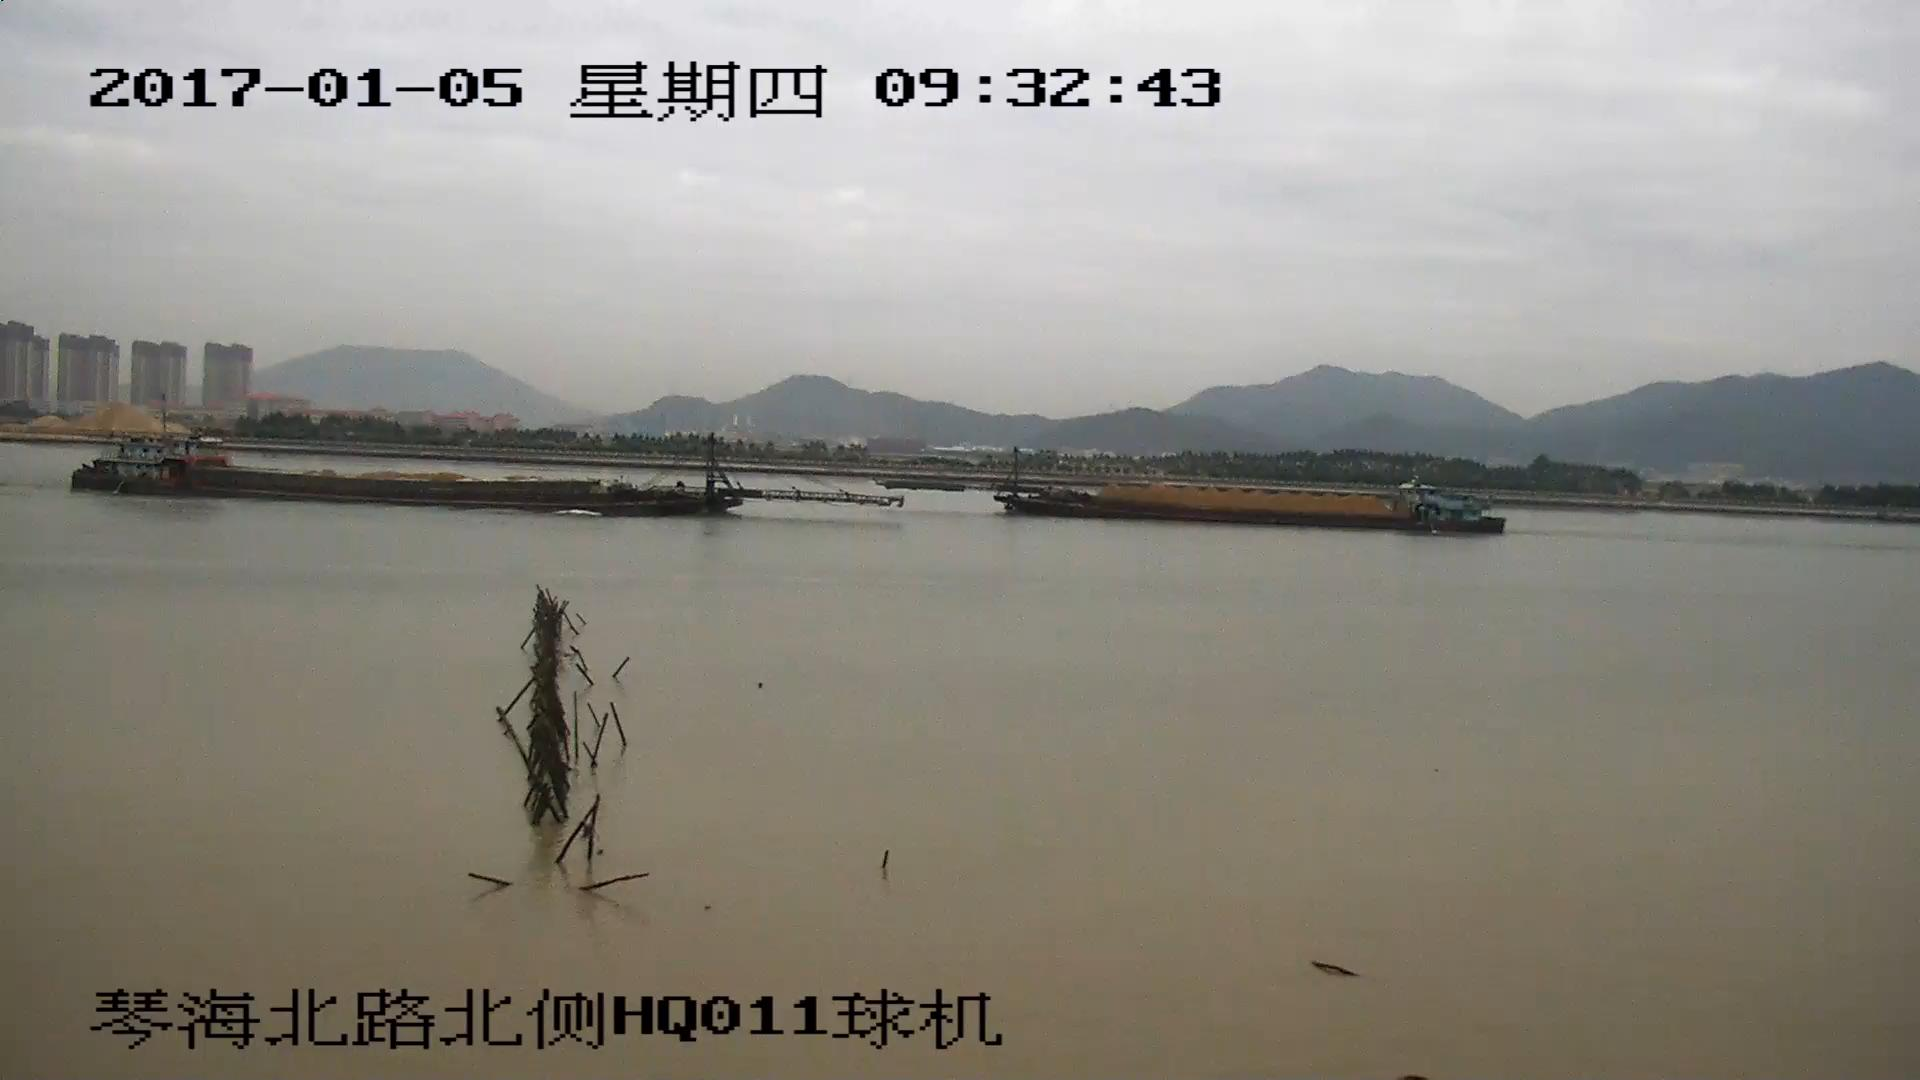ore carrier: (68, 434, 900, 520), (888, 454, 1504, 536)
